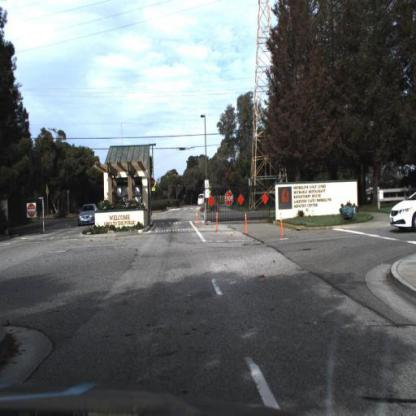car: (387, 185, 416, 235), (78, 202, 98, 227), (196, 192, 206, 209)
